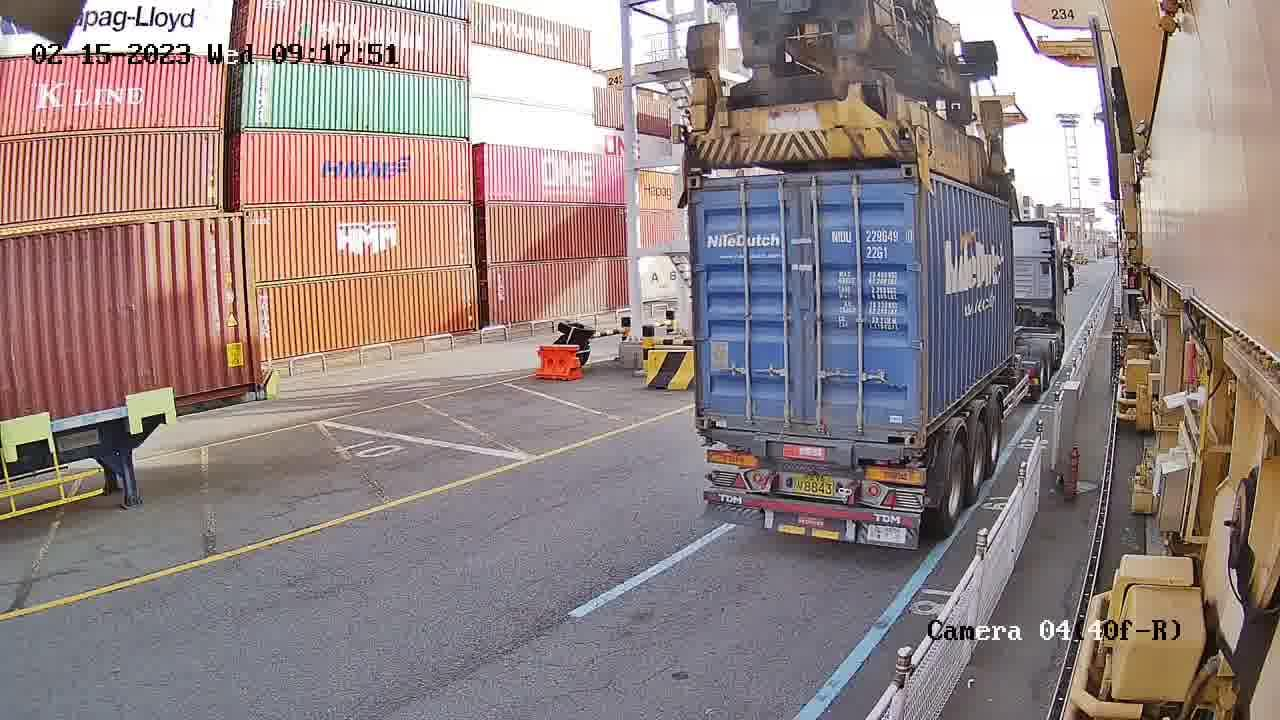Chassis: (699, 430, 924, 469)
Cone: (905, 449, 923, 468), (697, 431, 715, 449)
Hole_L: (694, 396, 735, 431)
Hole_R: (880, 406, 922, 449)
Tire: (940, 445, 967, 532), (968, 428, 988, 493), (988, 406, 1004, 468)
